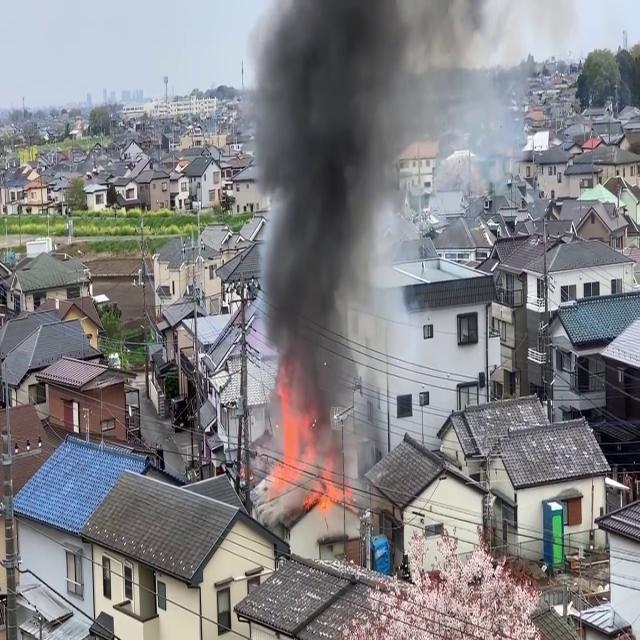Fire: (260, 384, 352, 513)
Smoke: (243, 0, 413, 475)
